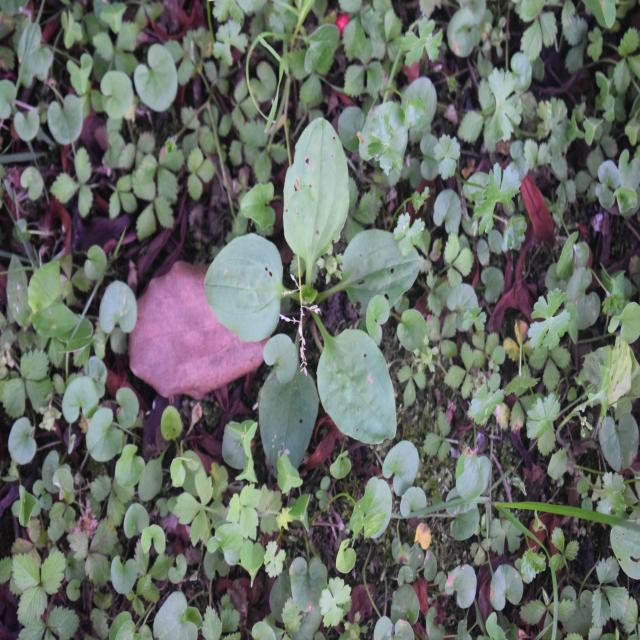plantain: (195, 129, 413, 453)
